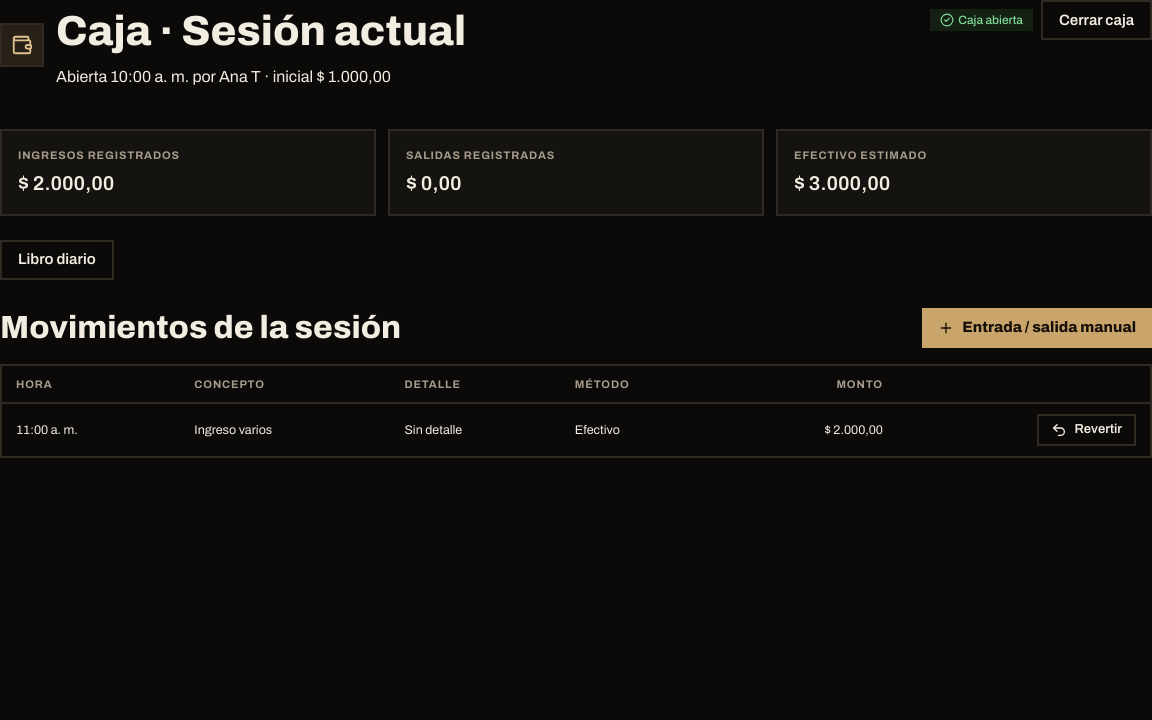
Scenario: CashPage › cerrar caja: envía closingDetails y muestra la diferencia en el toast
Click the button "Cerrar caja" at (1096,20), box [1041, 0, 1151, 40]
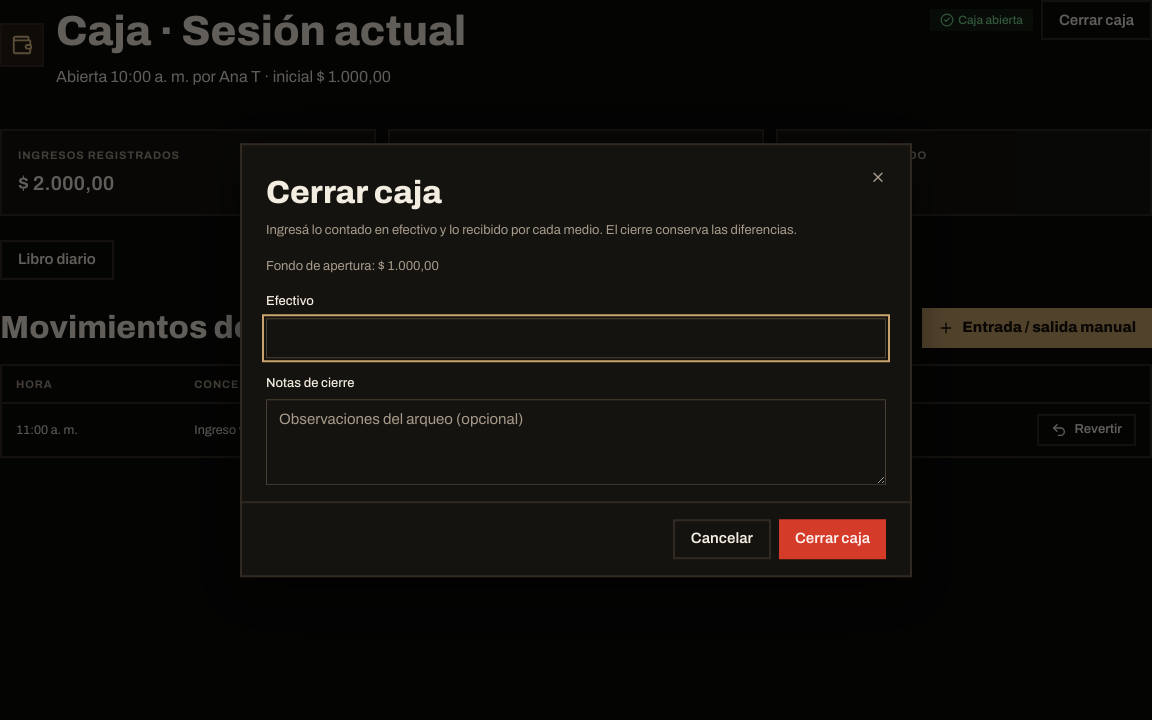
Type "3100" into the field labelled "Efectivo" at (576,338), box [266, 318, 886, 358]
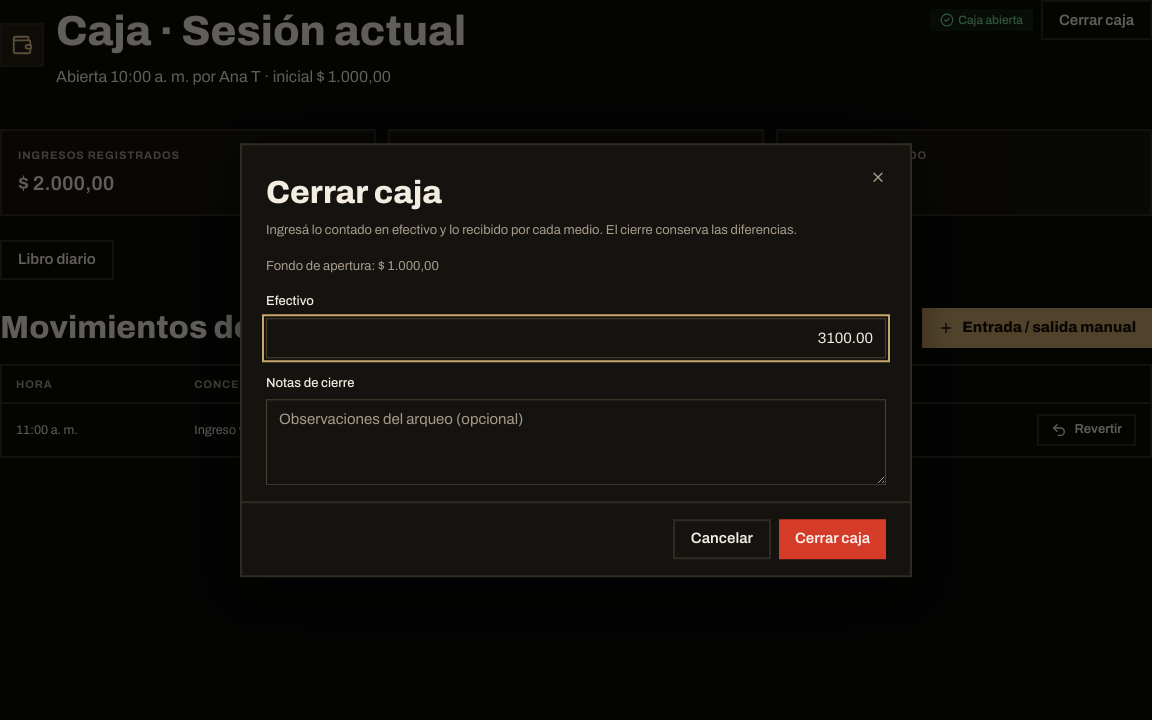
# Submit del footer del modal.
Click the button "Cerrar caja" at (832,539), box [779, 519, 886, 559]
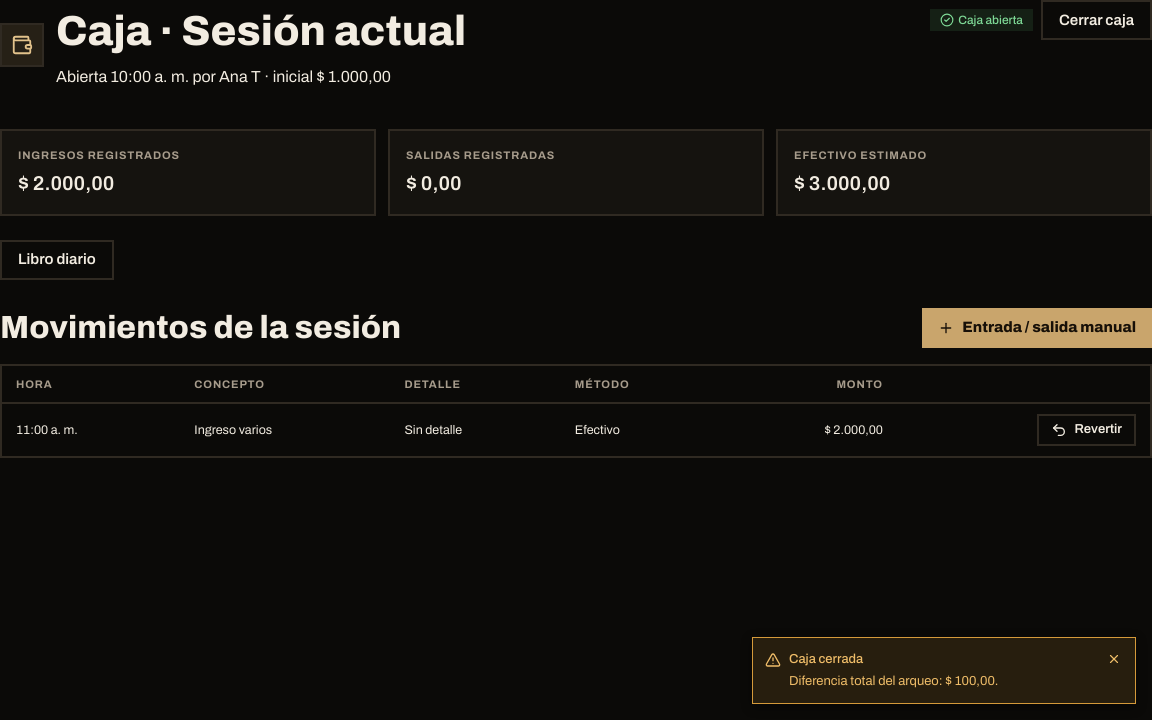
expect the text "Diferencia total del arqueo: $ 100,00." is shown: met, box [789, 674, 998, 688]
